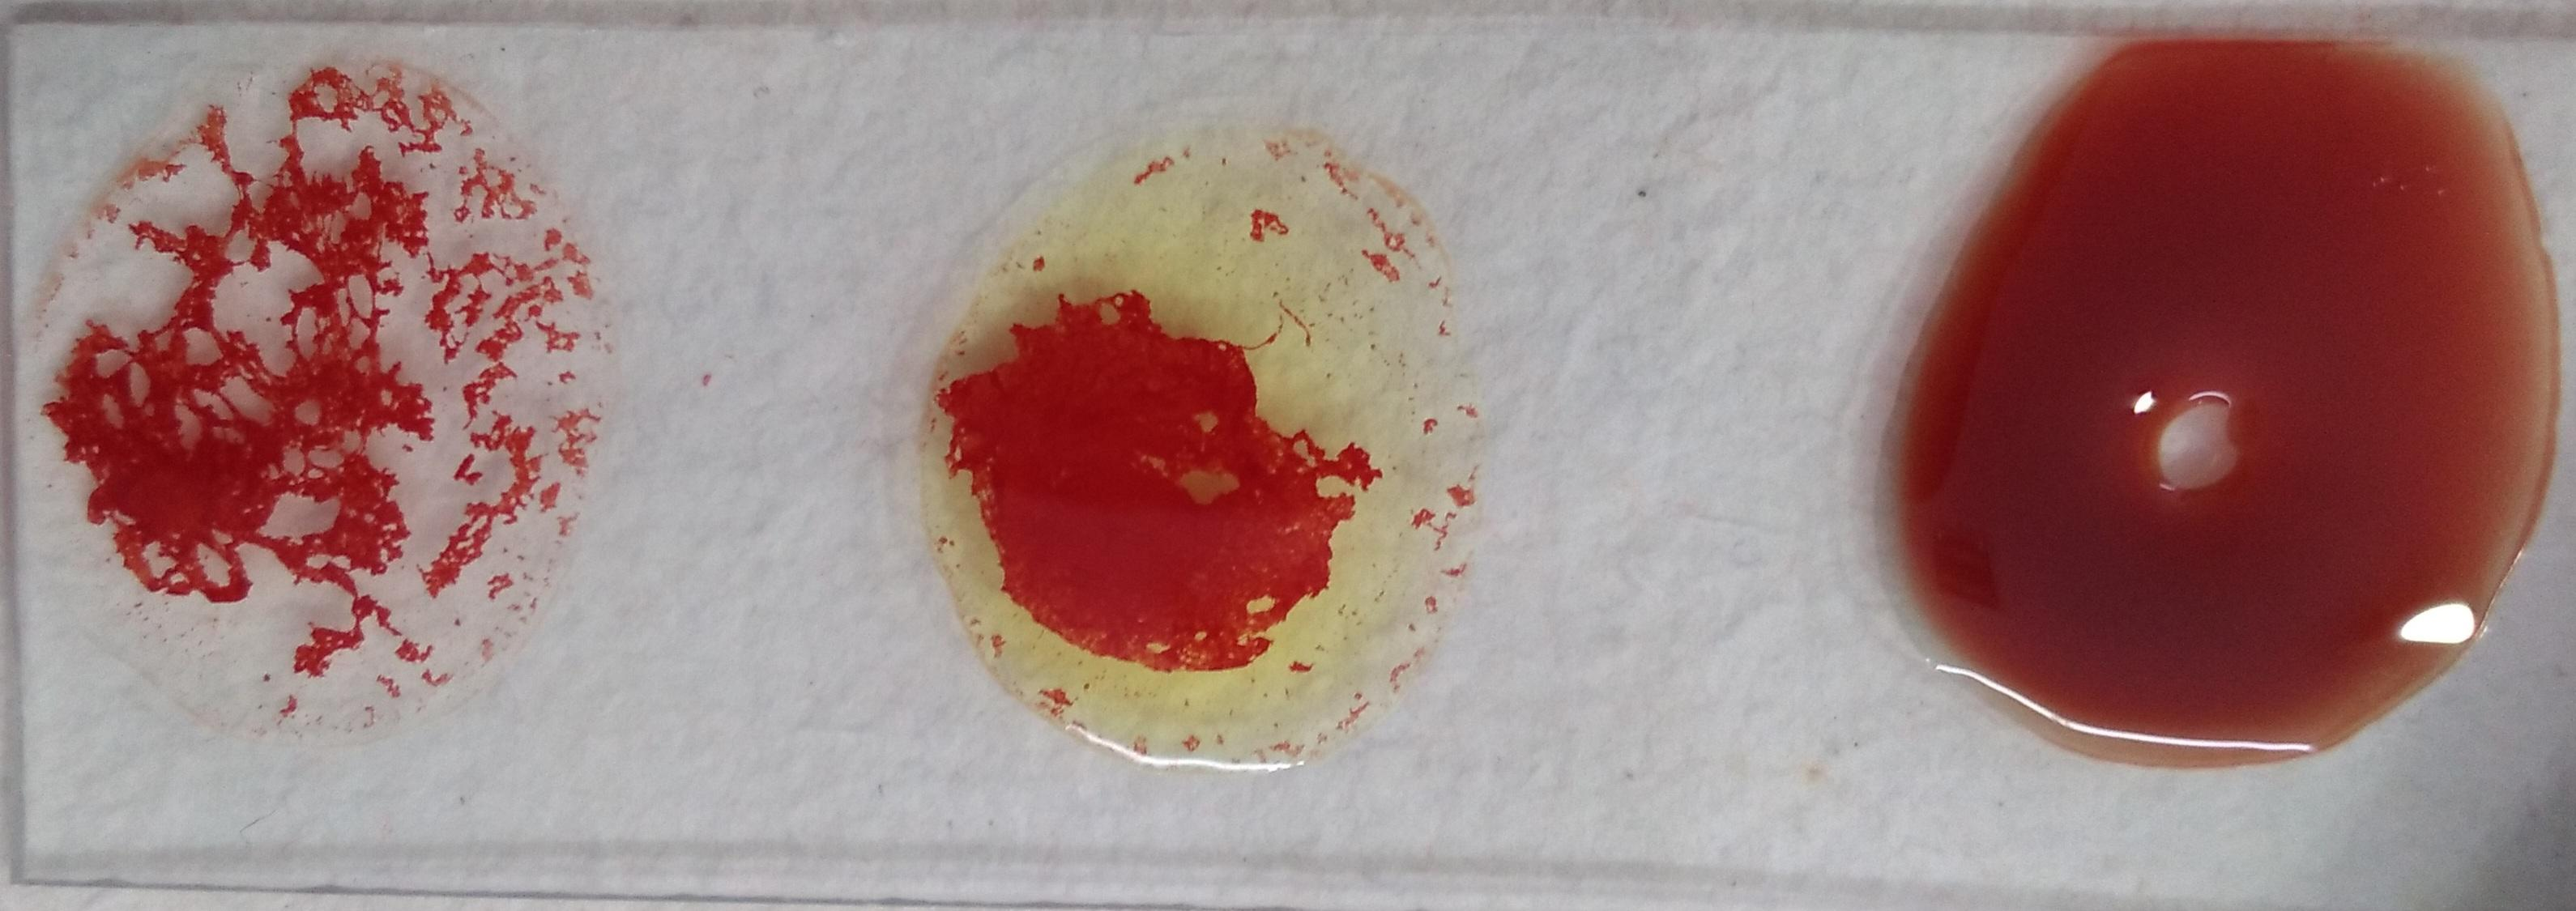B: (918, 105, 1493, 778)
D: (54, 49, 609, 758)
